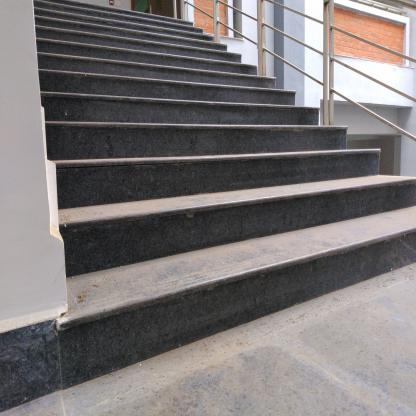stairs: (70, 104, 318, 354)
